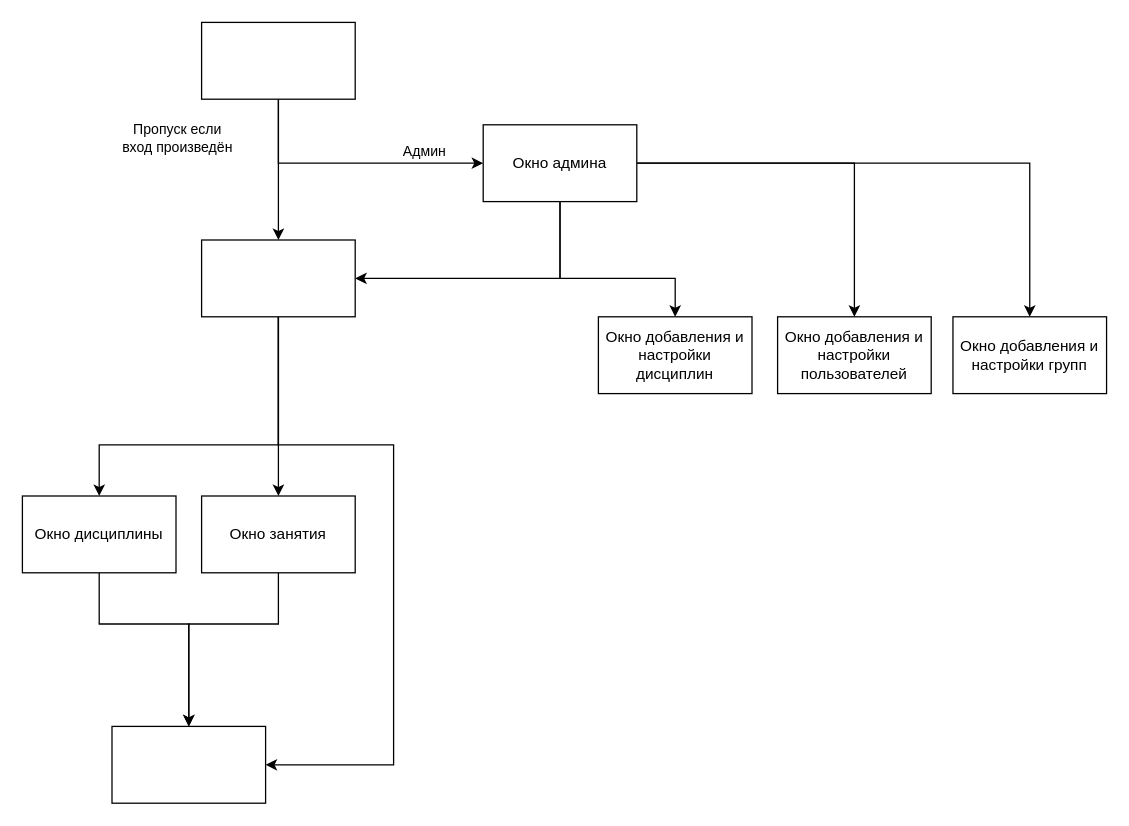
Some shapes in this 1129 by 826 pixel diagram are drawn without their labels. Here are the shapes that lost their labels. From the top down, the centre of each, then its label:
At point (277, 60): "Окно входа".
At point (277, 278): "Окно журналов (Главное)".
At point (188, 764): "Профиль -публичная версия, или настройки".
